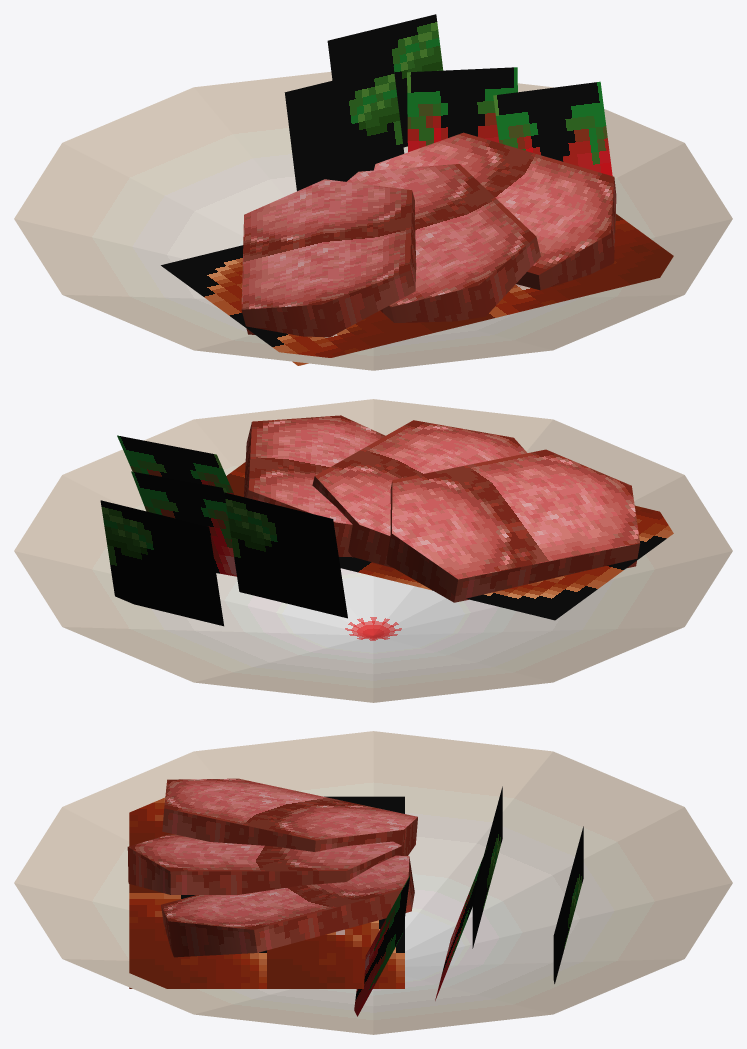
3 renders of one model, top to bottom at view 1: azimuth 30°, elevation 25°; view 2: azimuth 150°, elevation 25°; view 3: azimuth 270°, elevation 25°, orthographic.
Visible parts, largest first — view 1: roastbeef; view 2: roastbeef; view 3: roastbeef.
Boxes of the visible parts, x1=… form: roastbeef: x1=14, y1=14, x2=732, y2=370; roastbeef: x1=14, y1=399, x2=732, y2=702; roastbeef: x1=14, y1=731, x2=732, y2=1034.
Bounding box in the file's own units: 0.9043 × 0.238 × 0.9043.
Materials: 4 (4 with a texture image).
